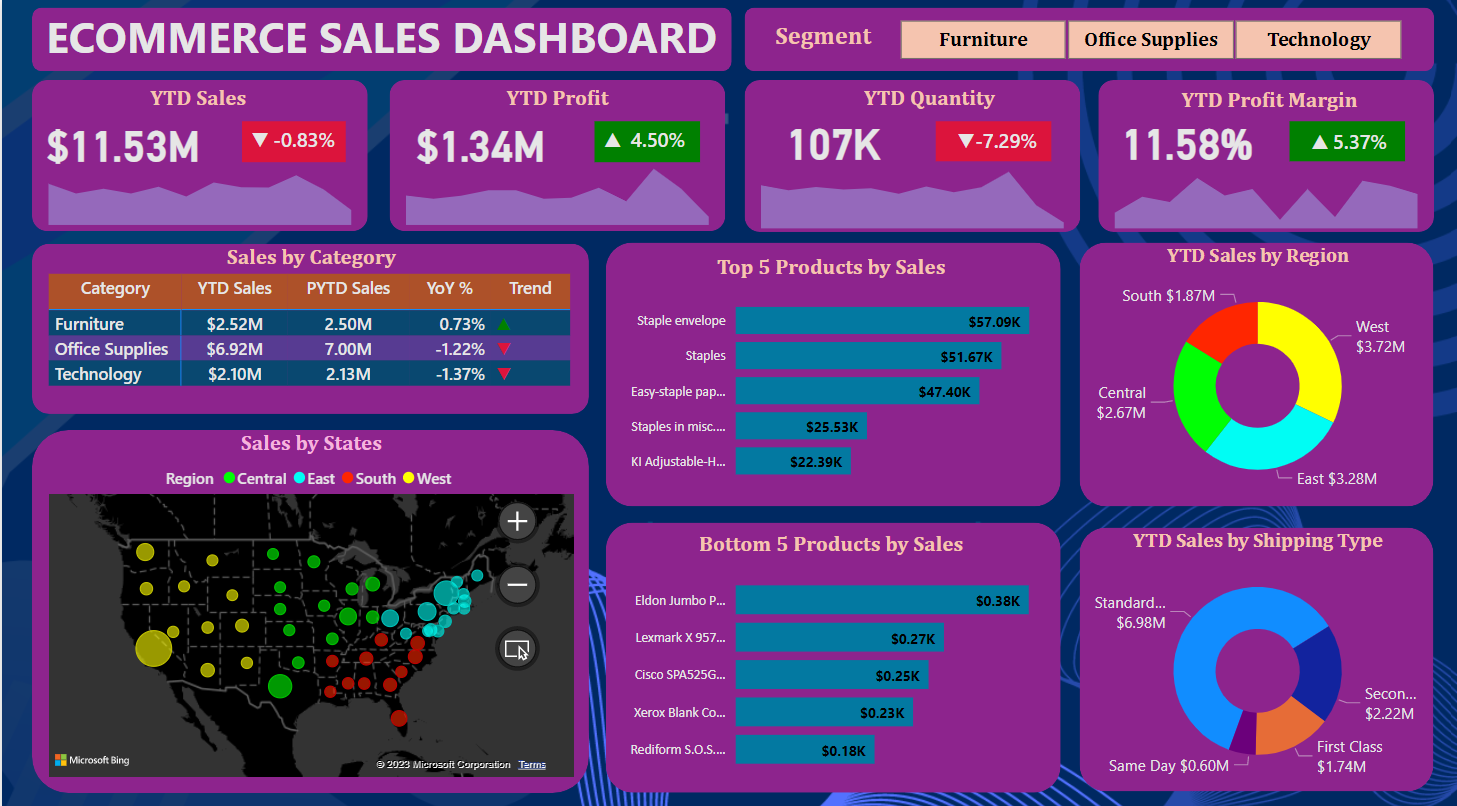

This screenshot's page, from the dashboard's own definition file:
{"tool":"powerbi","page":{"name":"Page 1","canvas":[1280,720],"ordinal":0},"visuals":[{"type":"shape","box":[26.6,6,615.3,55.6],"z":0},{"type":"textbox","box":[26.8,2.4,614.6,62.2],"z":1000},{"type":"card","fields":{"Values":["ecommerce_data.YoY Profit"]},"box":[537.2,110.6,78.8,27.5],"z":1000,"group":"g1"},{"type":"card","fields":{"Values":["ecommerce_data.YoY Quantity"]},"box":[848.1,111.9,68.9,27.8],"z":1000,"group":"g3"},{"type":"card","fields":{"Values":["ecommerce_data.YoY profit Margin"]},"box":[1159.3,112.8,68.9,27.8],"z":1000,"group":"g4"},{"type":"card","fields":{"Values":["ecommerce_data.YoY Profit"]},"box":[615.7,120.6,9.6,32.1],"z":1000,"group":"g2"},{"type":"shape","box":[26.4,70.6,295,133],"z":2000},{"type":"card","fields":{"Values":["ecommerce_data.YTD Sales"]},"box":[26.4,100.6,160,48.8],"z":3000},{"type":"card","fields":{"Values":["ecommerce_data.Profit Trend Icon"]},"box":[518.4,110.6,36.2,27.5],"z":3000,"group":"g1"},{"type":"card","fields":{"Values":["ecommerce_data.Qty Trend Icon"]},"box":[825.9,111.5,42.7,27.8],"z":3000,"group":"g3"},{"type":"card","fields":{"Values":["ecommerce_data.Profit Margin Trend Icon"]},"box":[1137.1,112.4,42.7,27.8],"z":3000,"group":"g4"},{"type":"card","fields":{"Values":["ecommerce_data.Profit Trend Icon"]},"box":[613.4,120.6,4.4,32.1],"z":3000,"group":"g2"},{"type":"areaChart","fields":{"Category":["calendar.Month"],"Y":["Sum(ecommerce_data.sales_per_order)"]},"box":[26.4,133.1,295,70],"z":4000},{"type":"shape","box":[211.4,106.8,91.2,36.2],"z":5000},{"type":"card","fields":{"Values":["ecommerce_data.YoY Sales"]},"box":[226.4,110.6,78.8,27.5],"z":6000},{"type":"card","fields":{"Values":["ecommerce_data.Sales Trend Icon"]},"box":[208.9,110.6,36.2,27.5],"z":7000},{"type":"textbox","box":[125.2,70.6,102.5,33.8],"z":8000},{"type":"shape","box":[340.4,70.6,295,133],"z":9000},{"type":"card","fields":{"Values":["ecommerce_data.YTD Profit"]},"box":[340.4,100.6,160,48.8],"z":10000},{"type":"areaChart","fields":{"Category":["calendar.Month"],"Y":["Sum(ecommerce_data.profit_per_order)"]},"box":[340.4,133.1,295,70],"z":11000},{"type":"textbox","box":[438.4,70.6,113.8,33.8],"z":12000},{"type":"shape","box":[520.9,106.8,92.5,36.2],"z":13000},{"type":"group","id":"g1","title":"Group 1","box":[518.4,110.6,97.5,27.5],"z":14000},{"type":"shape","box":[652.8,70.4,295.1,133.3],"z":15000},{"type":"textbox","box":[752.4,70.4,141.4,35.1],"z":16000},{"type":"card","fields":{"Values":["ecommerce_data.YTD Quantity"]},"box":[650.2,99.2,160,48.8],"z":17000},{"type":"areaChart","fields":{"Category":["calendar.Month"],"Y":["Sum(ecommerce_data.order_quantity)"]},"box":[652.8,134.7,295.1,70.2],"z":18000},{"type":"shape","box":[821.1,106.6,101.5,35.1],"z":19000},{"type":"group","id":"g2","title":"Group 1","box":[613.4,120.6,11.9,32.1],"z":20000},{"type":"group","id":"g3","title":"Group 1","box":[825.9,111.5,90.7,27.8],"z":21000},{"type":"shape","box":[963.6,70.8,295.1,133.3],"z":22000},{"type":"textbox","box":[1031.9,71.3,177.7,35.1],"z":23000},{"type":"card","fields":{"Values":["ecommerce_data.YTD Profit Margin"]},"box":[963,99.1,158.4,49.6],"z":24000},{"type":"areaChart","fields":{"Category":["calendar.Month"],"Y":["ecommerce_data.Profit Margin"]},"box":[963.6,135,295.1,70.2],"z":25000},{"type":"shape","box":[1131.9,107,101.5,35.1],"z":26000},{"type":"group","id":"g4","title":"Group 1","box":[1137.1,112.4,90.7,27.8],"z":27000},{"type":"shape","box":[26.6,214,489.6,149.9],"z":28000},{"type":"pivotTable","title":"Sales by Category","fields":{"Rows":["ecommerce_data.category_name"],"Values":["ecommerce_data.YTD Sales","ecommerce_data.PYTD Sales","ecommerce_data.YoY Sales","ecommerce_data.Sales Trend Icon"]},"box":[36.3,214,471.5,141.4],"z":29000},{"type":"shape","box":[26.6,378.4,489.6,319.2],"z":30000},{"type":"map","title":"Sales by States","fields":{"Y":["us_state_long_lat.latitude"],"X":["us_state_long_lat.longitude"],"Size":["ecommerce_data.YTD Sales"],"Series":["ecommerce_data.customer_region"]},"box":[36.3,378.4,471.5,309.5],"z":31000},{"type":"shape","box":[530.5,213.4,400,231.7],"z":32000},{"type":"shape","box":[530.5,459.8,400,237.8],"z":33000},{"type":"barChart","title":"Top 5 Products by Sales","fields":{"Y":["ecommerce_data.YTD Sales"],"Category":["ecommerce_data.product_name"]},"box":[536.6,223.2,385.4,212.2],"z":34000},{"type":"barChart","title":"Bottom 5 Products by Sales","fields":{"Category":["ecommerce_data.product_name"],"Y":["ecommerce_data.YTD Sales"]},"box":[536.6,467.1,385.4,223.2],"z":35000},{"type":"shape","box":[947.6,213.4,311,231.7],"z":36000},{"type":"shape","box":[947.6,463.4,311,231.7],"z":37000},{"type":"donutChart","title":"YTD Sales by Region","fields":{"Category":["ecommerce_data.customer_region"],"Y":["ecommerce_data.YTD Sales"]},"box":[953.7,213.4,300,231.7],"z":38000},{"type":"donutChart","title":"YTD Sales by Shipping Type","fields":{"Y":["ecommerce_data.YTD Sales"],"Category":["ecommerce_data.shipping_type"]},"box":[953.7,463.4,300,231.7],"z":39000},{"type":"shape","box":[652.4,6.1,606.1,56.1],"z":40000},{"type":"slicer","fields":{"Values":["ecommerce_data.category_name"]},"box":[764,10.7,490.3,47.6],"z":41000},{"type":"textbox","box":[674.8,14.3,108.3,36.9],"z":41001}]}

Visuals, with their boxes in screenshot pixels (x1, y1, x2, y2), scaled from the page's 1280x720 canvas onto the 1457x806 screenshot:
shape: bbox=(30, 7, 731, 69)
textbox: bbox=(31, 3, 730, 72)
card - ecommerce_data.YoY Profit: bbox=(611, 124, 701, 155)
card - ecommerce_data.YoY Quantity: bbox=(965, 125, 1044, 156)
card - ecommerce_data.YoY profit Margin: bbox=(1320, 126, 1398, 157)
card - ecommerce_data.YoY Profit: bbox=(701, 135, 712, 171)
shape: bbox=(30, 79, 366, 228)
card - ecommerce_data.YTD Sales: bbox=(30, 113, 212, 167)
card - ecommerce_data.Profit Trend Icon: bbox=(590, 124, 631, 155)
card - ecommerce_data.Qty Trend Icon: bbox=(940, 125, 989, 156)
card - ecommerce_data.Profit Margin Trend Icon: bbox=(1294, 126, 1343, 157)
card - ecommerce_data.Profit Trend Icon: bbox=(698, 135, 703, 171)
areaChart - calendar.Month x Sum(ecommerce_data.sales_per_order): bbox=(30, 149, 366, 227)
shape: bbox=(241, 120, 344, 160)
card - ecommerce_data.YoY Sales: bbox=(258, 124, 347, 155)
card - ecommerce_data.Sales Trend Icon: bbox=(238, 124, 279, 155)
textbox: bbox=(143, 79, 259, 117)
shape: bbox=(387, 79, 723, 228)
card - ecommerce_data.YTD Profit: bbox=(387, 113, 570, 167)
areaChart - calendar.Month x Sum(ecommerce_data.profit_per_order): bbox=(387, 149, 723, 227)
textbox: bbox=(499, 79, 629, 117)
shape: bbox=(593, 120, 698, 160)
"Group 1" group: bbox=(590, 124, 701, 155)
shape: bbox=(743, 79, 1079, 228)
textbox: bbox=(856, 79, 1017, 118)
card - ecommerce_data.YTD Quantity: bbox=(740, 111, 922, 166)
areaChart - calendar.Month x Sum(ecommerce_data.order_quantity): bbox=(743, 151, 1079, 229)
shape: bbox=(935, 119, 1050, 159)
"Group 1" group: bbox=(698, 135, 712, 171)
"Group 1" group: bbox=(940, 125, 1043, 156)
shape: bbox=(1097, 79, 1433, 228)
textbox: bbox=(1175, 80, 1377, 119)
card - ecommerce_data.YTD Profit Margin: bbox=(1096, 111, 1276, 166)
areaChart - calendar.Month x ecommerce_data.Profit Margin: bbox=(1097, 151, 1433, 230)
shape: bbox=(1288, 120, 1404, 159)
"Group 1" group: bbox=(1294, 126, 1398, 157)
shape: bbox=(30, 240, 588, 407)
"Sales by Category" pivotTable: bbox=(41, 240, 578, 398)
shape: bbox=(30, 424, 588, 781)
"Sales by States" map: bbox=(41, 424, 578, 770)
shape: bbox=(604, 239, 1059, 498)
shape: bbox=(604, 515, 1059, 781)
"Top 5 Products by Sales" barChart: bbox=(611, 250, 1049, 487)
"Bottom 5 Products by Sales" barChart: bbox=(611, 523, 1049, 773)
shape: bbox=(1079, 239, 1433, 498)
shape: bbox=(1079, 519, 1433, 778)
"YTD Sales by Region" donutChart: bbox=(1086, 239, 1427, 498)
"YTD Sales by Shipping Type" donutChart: bbox=(1086, 519, 1427, 778)
shape: bbox=(743, 7, 1433, 70)
slicer - ecommerce_data.category_name: bbox=(870, 12, 1428, 65)
textbox: bbox=(768, 16, 891, 57)
